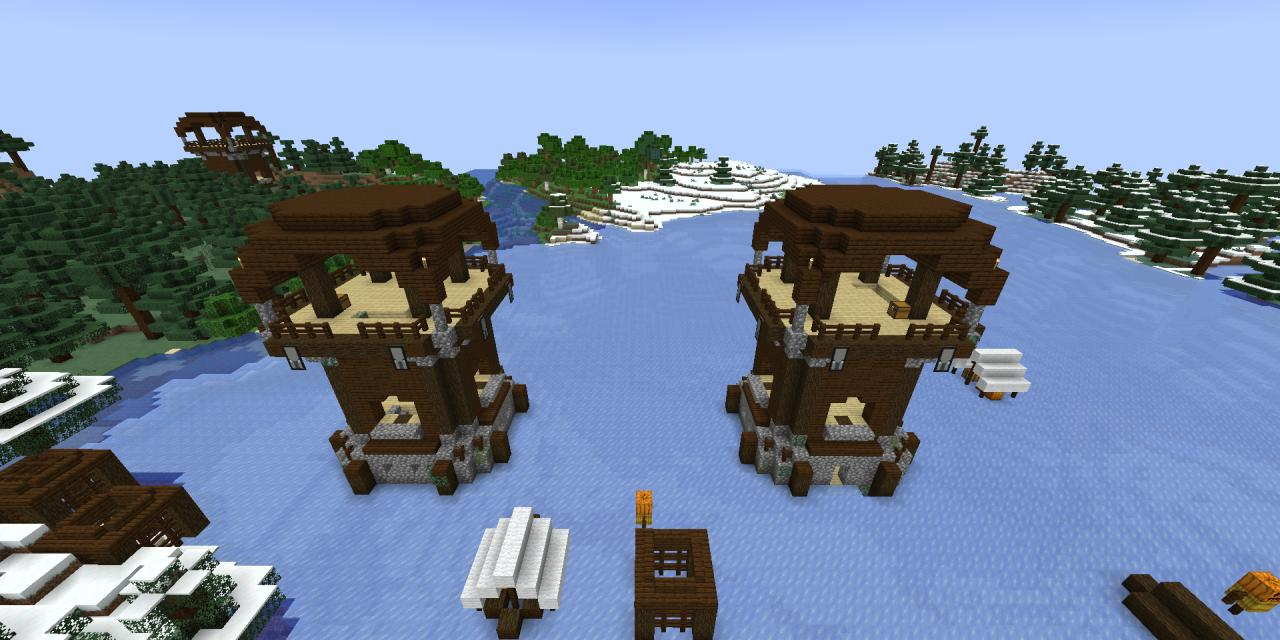pillager outpost: (220, 175, 545, 512), (717, 183, 1013, 504), (170, 97, 301, 192)
